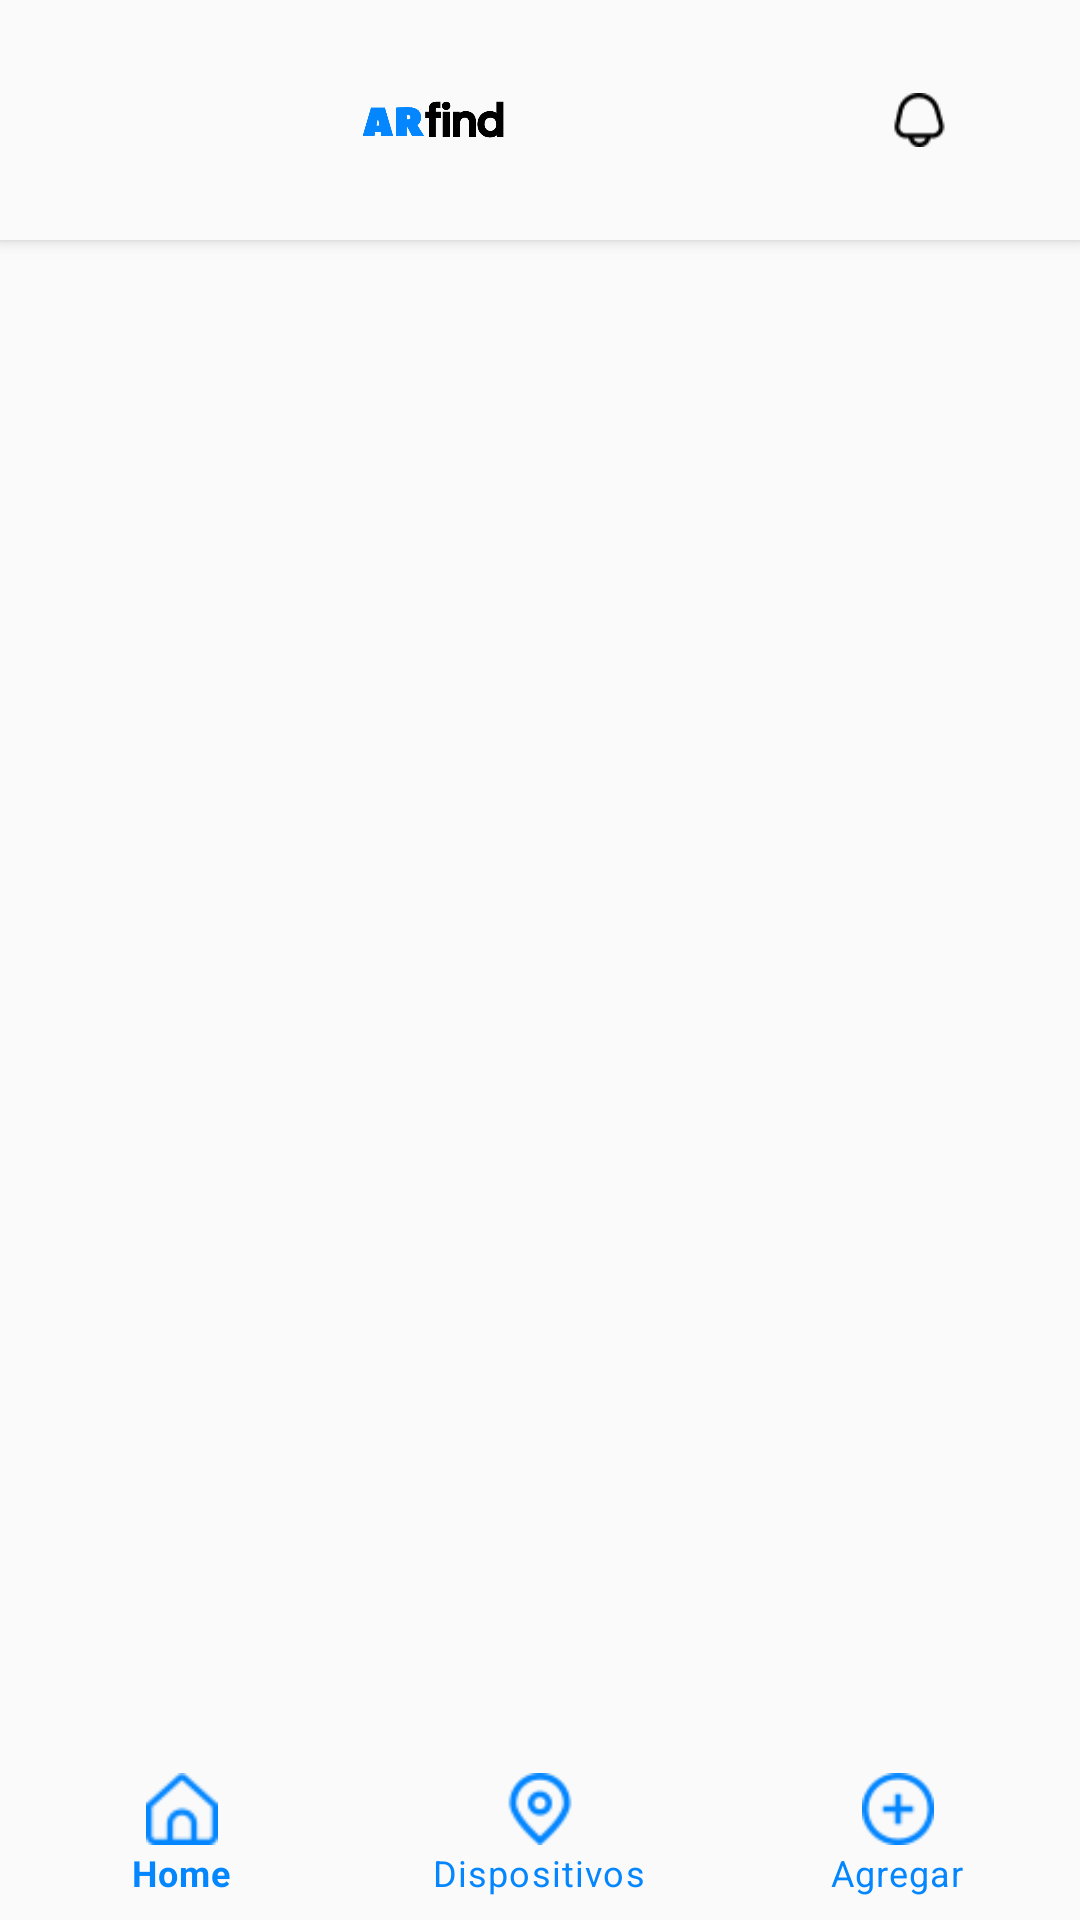

Icon bounding boxes for this 1080×1920 phone screenshot, format BBox(x1, y1, x2, y2):
campana: BBox(894, 93, 945, 147)
